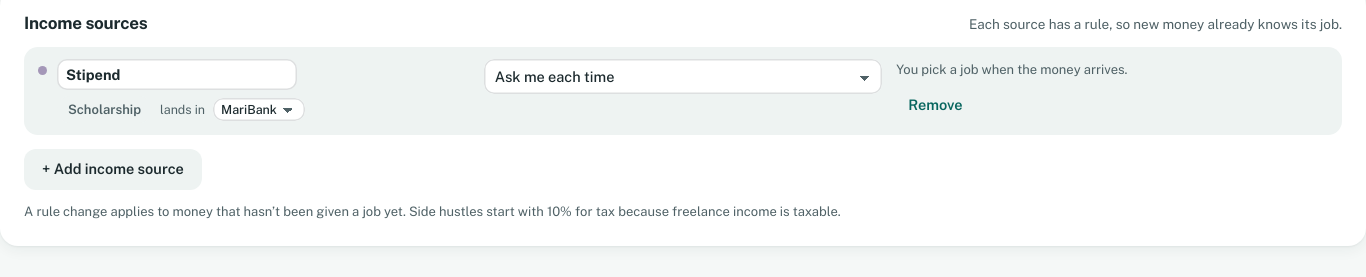
IncomeSources › Keep it whole asks for a bucket and defaults sensibly
The image size is (1366, 277).
Select "Keep it whole" in the dropdown named "Rule for Stipend". click: (683, 77)
box: [484, 59, 882, 94]
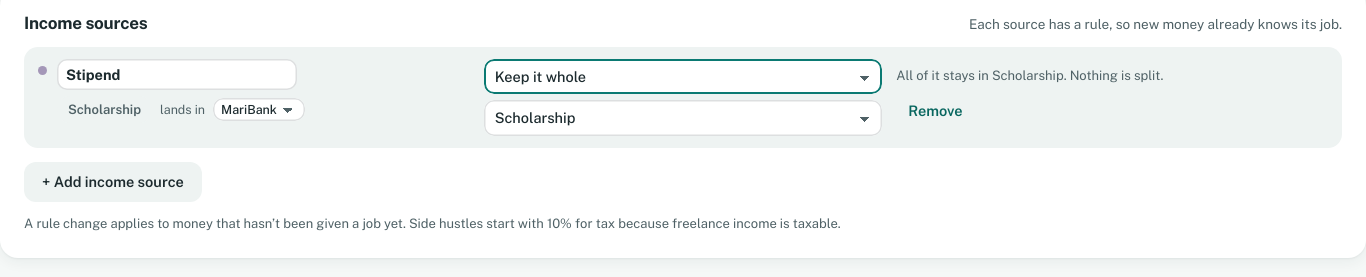
Expected: the dropdown named "Bucket for Stipend" shows "Scholarship"
Select "Living" in the dropdown named "Bucket for Stipend". click: (683, 118)
box: [484, 100, 882, 136]
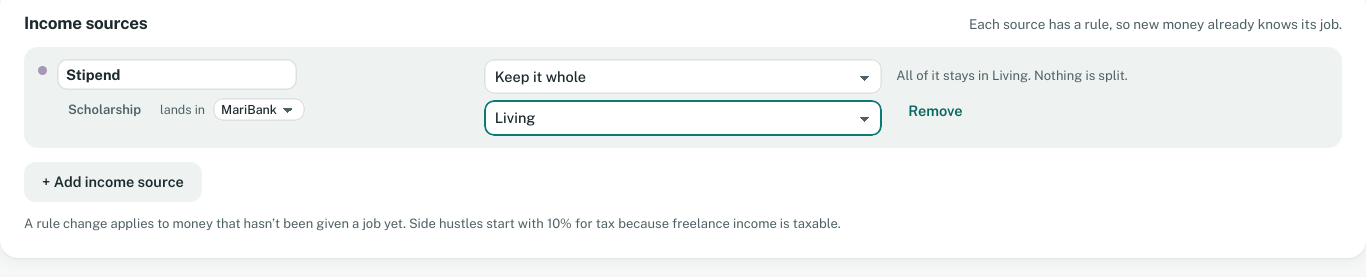
Expected: the text "All of it stays in Living. Nothing is split." is shown, [896, 68, 1128, 83]
